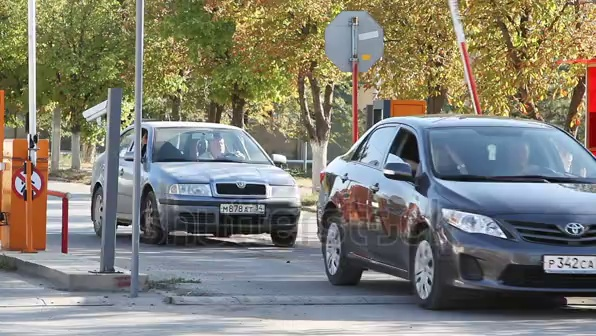licenseplate: (542, 254, 596, 270), (220, 201, 262, 214)
